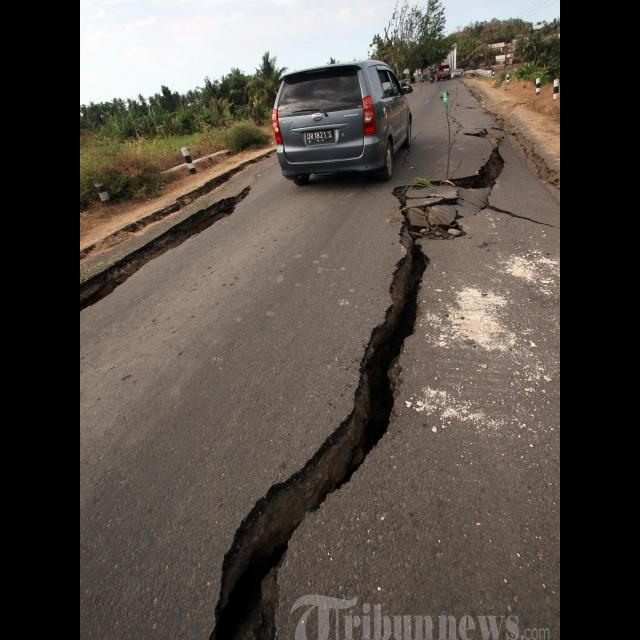retak_memanjang: (195, 178, 435, 640), (80, 180, 261, 321), (458, 124, 520, 218)
